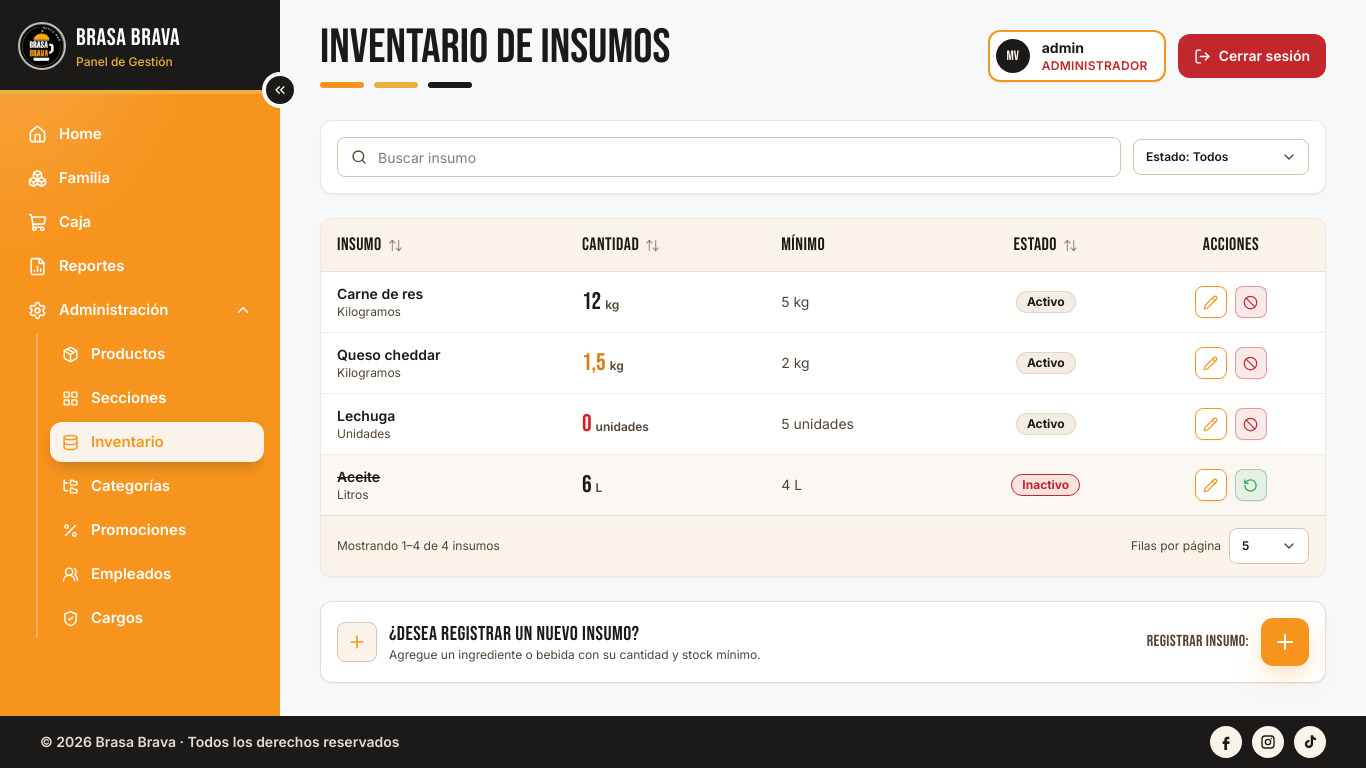
Test case: Inventario › al modificar fija la unidad si ya se usó, corrige la cantidad y avisa en emergente si el servidor rechaza
Expected: the text "Carne de res" is shown, [337,285,423,302]
Click the button named "Modificar Carne de res". click: (1211, 302)
box: [1195,286,1227,318]
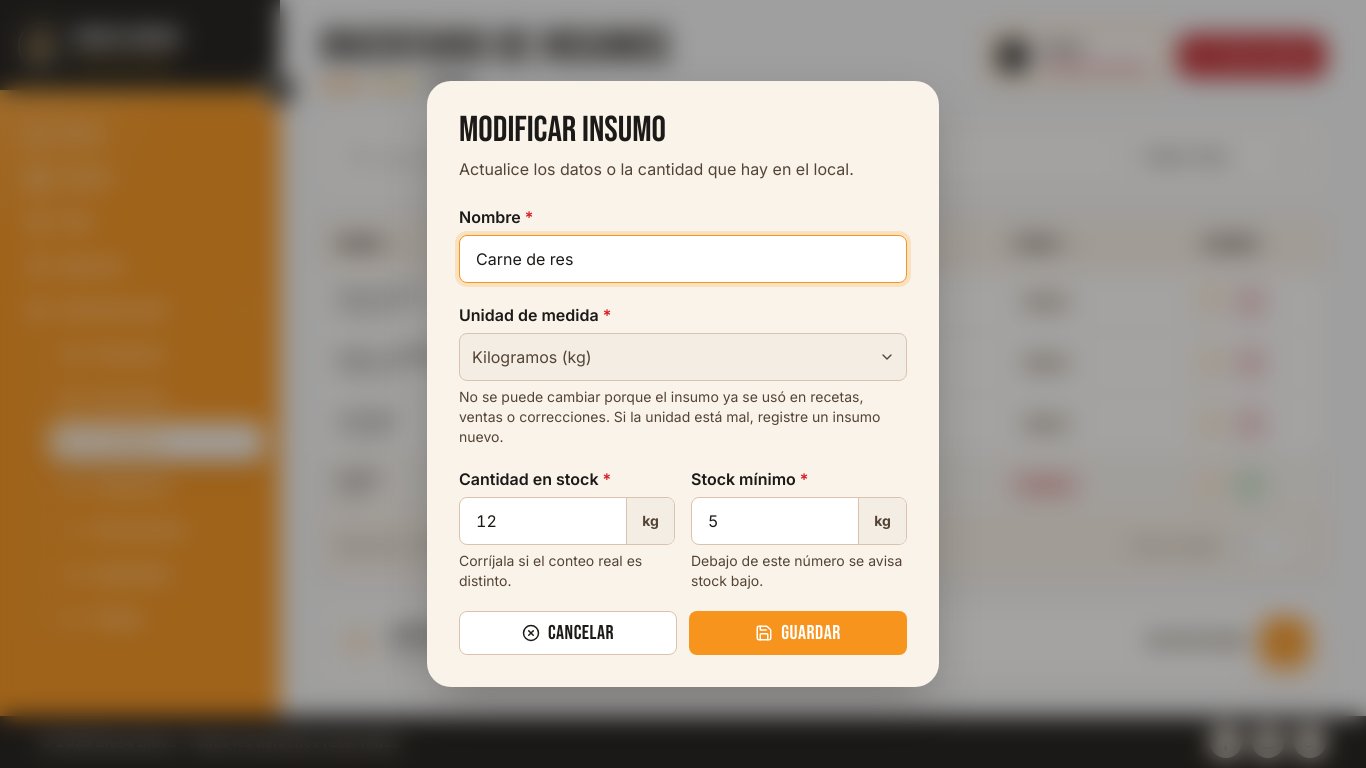
Expected: the field labelled "Cantidad en stock *" holds "12", [460,498,626,544]
Expected: the dropdown labelled "Unidad de medida *" is disabled, [459,333,907,381]
Expected: the text "ya se usó en recetas, ventas o correcciones" is shown, [459,388,880,445]
Type "Lechuga" into the field labelled "Nombre *". click: (683, 259)
box: [459,235,907,283]
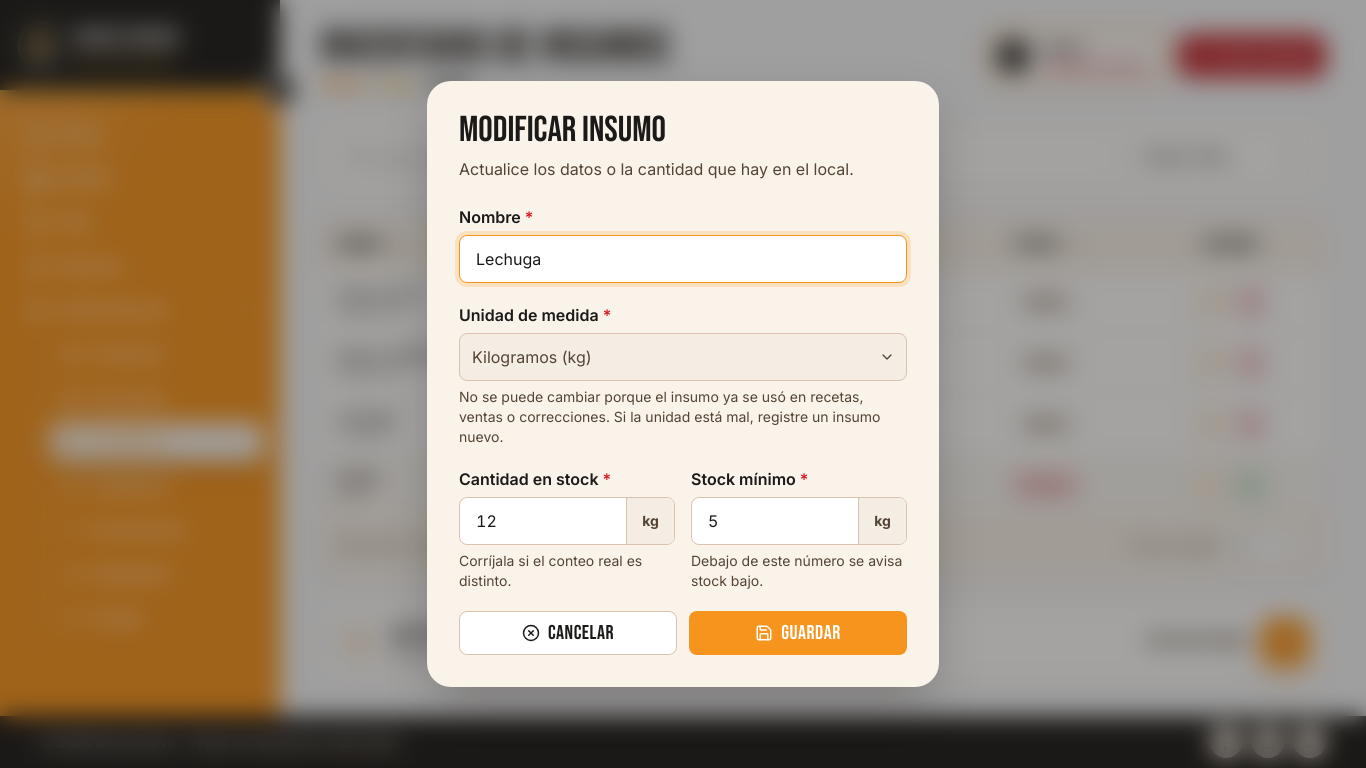
Click the button "Guardar". click: (798, 633)
box: [689,611,907,655]
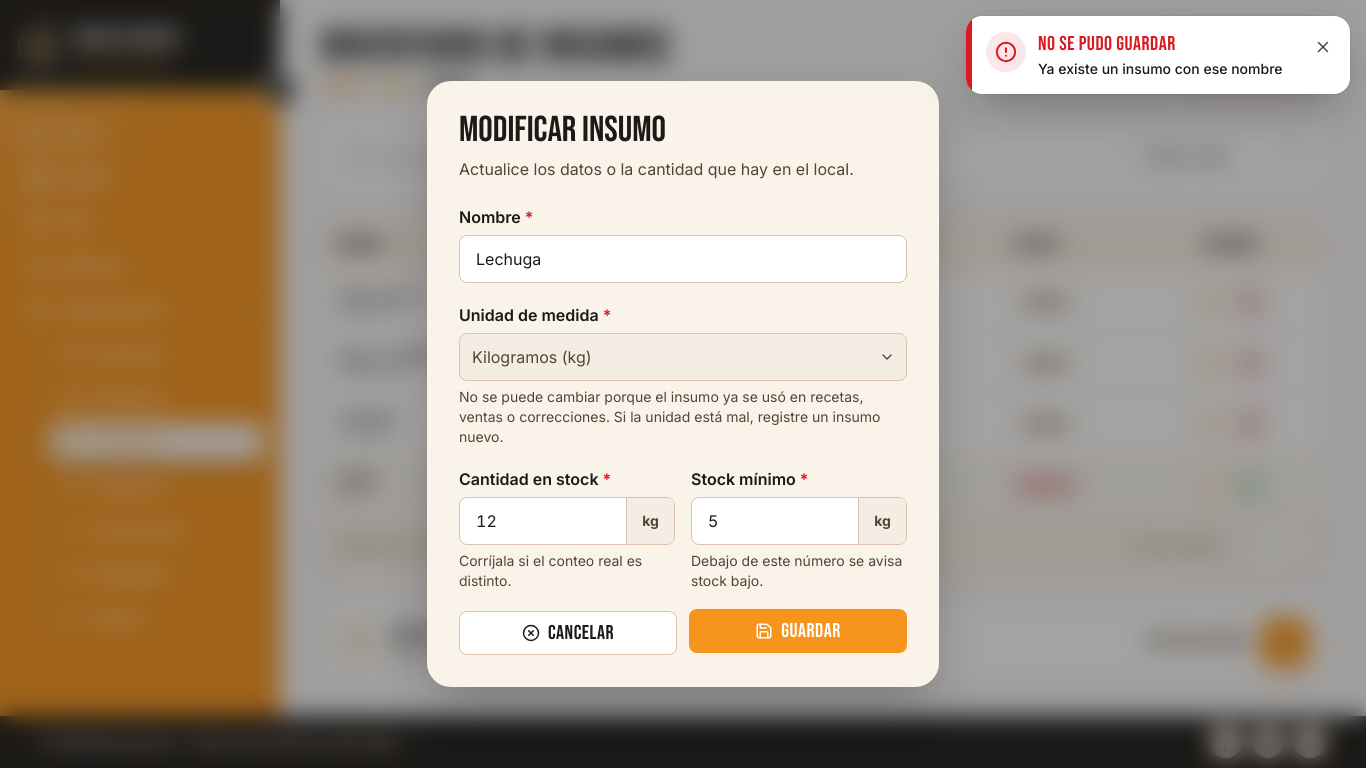
Expected: the dialog "Modificar insumo" is shown, [427,81,939,687]
Expected: the message shows "No se pudo guardar", [1038,32,1176,56]
Expected: the message shows "Ya existe un insumo con ese nombre", [1038,60,1282,77]
Replace the text in the field labelled "Nombre *" with "Carne de res". click: (683, 259)
box: [459,235,907,283]
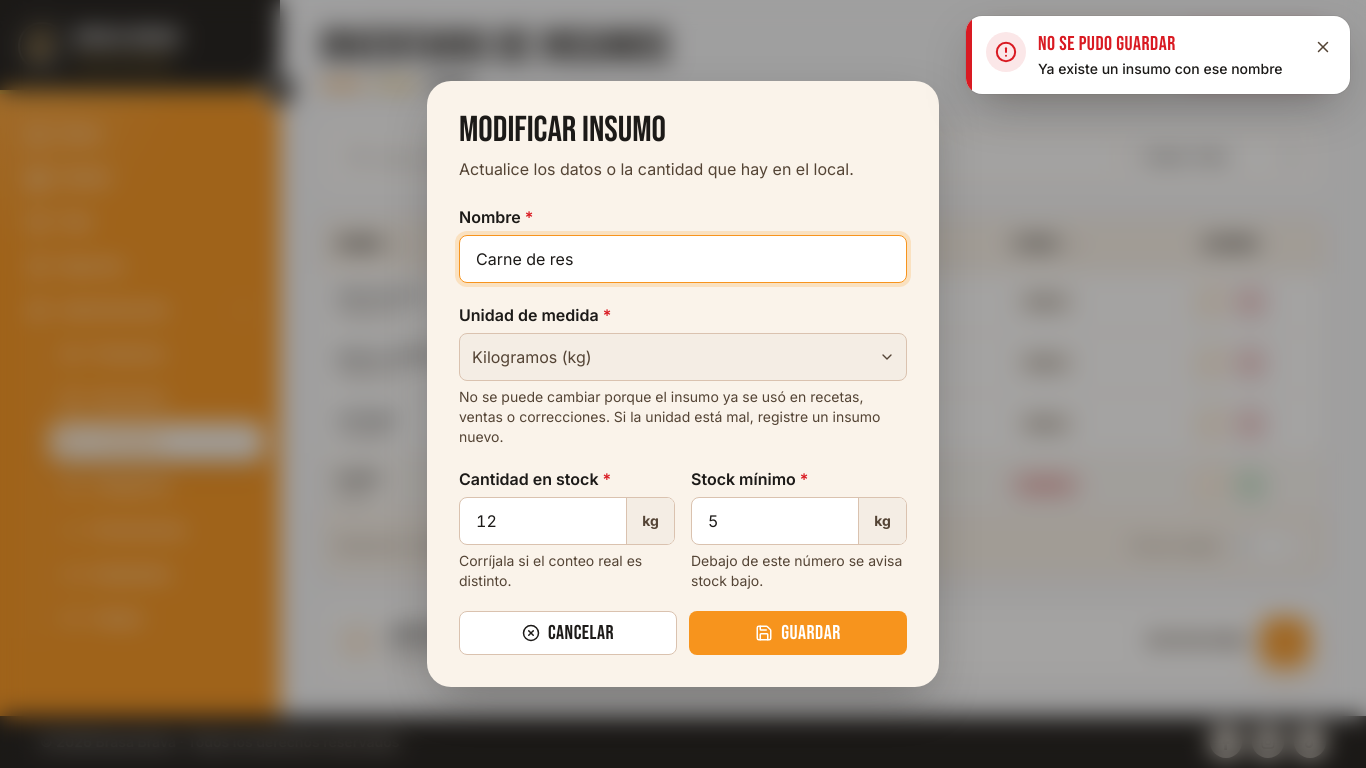
Replace the text in the field labelled "Cantidad en stock *" with "4,5". click: (543, 521)
box: [460,498,626,544]
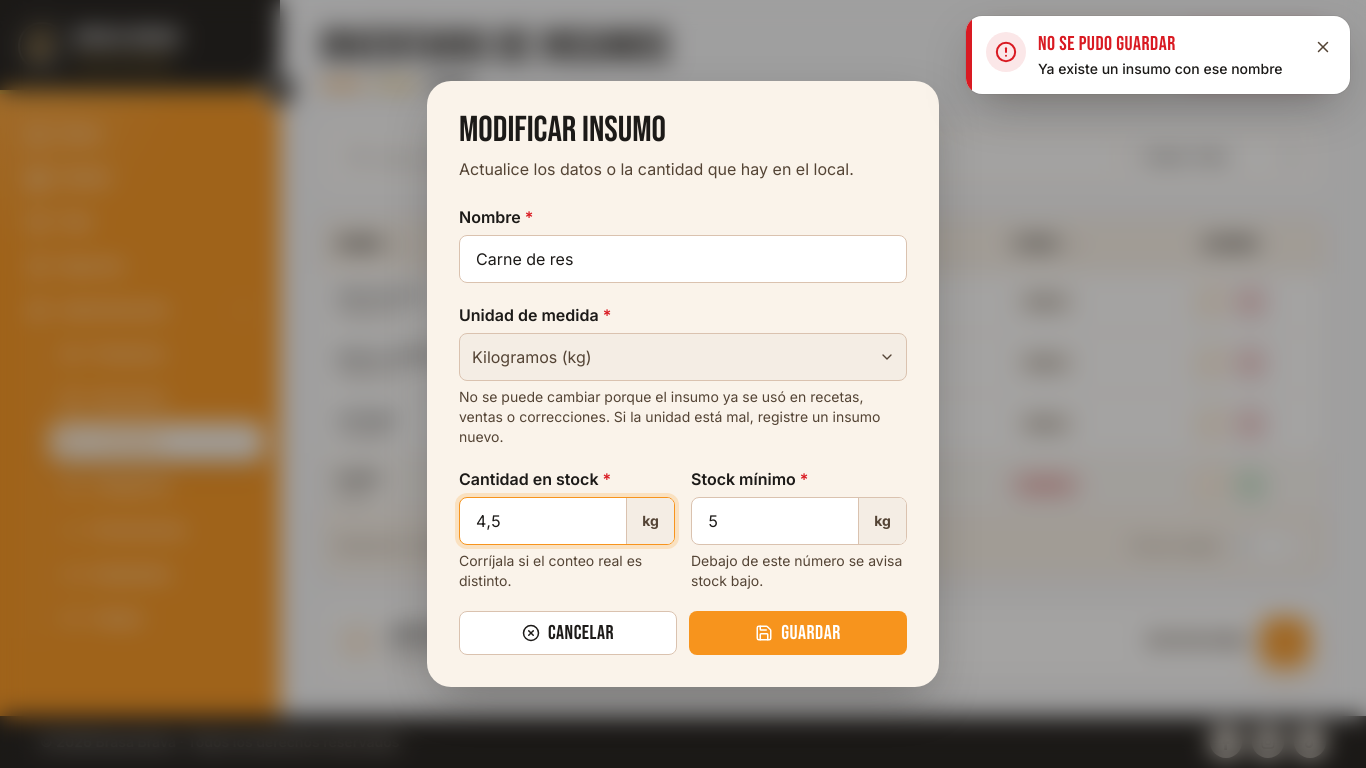
Click the button "Guardar". click: (798, 633)
box: [689,611,907,655]
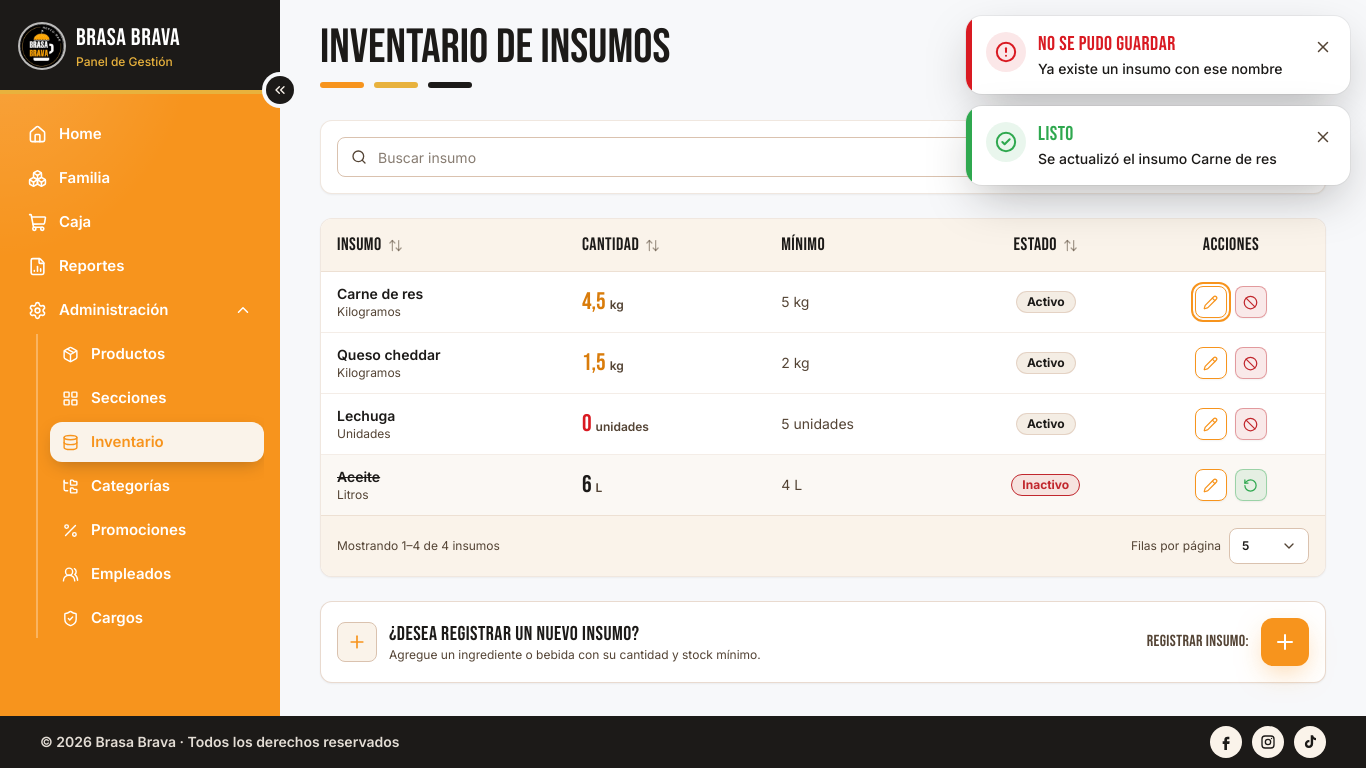
Expected: the message "Listo Se actualizó el insumo Carne de res" is shown, [966,106,1350,185]
